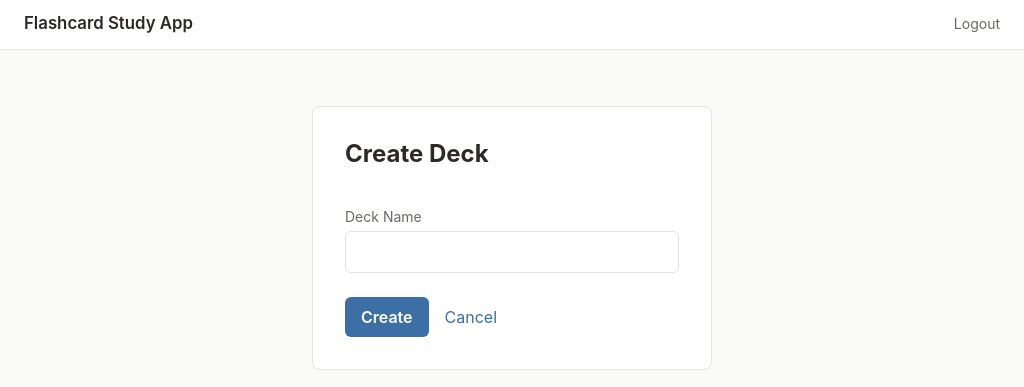
Test: CreateDeckPage › opens the new deck's page, replacing the create form in history
In the field labelled "Deck Name": x=512, y=252 [345,231,679,273], type "Chemistry"
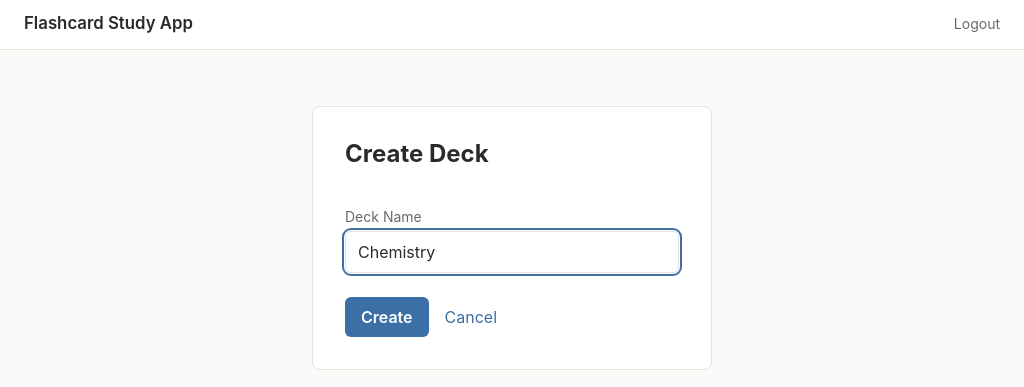
Click the button "Create": x=387, y=317 [345,297,428,337]
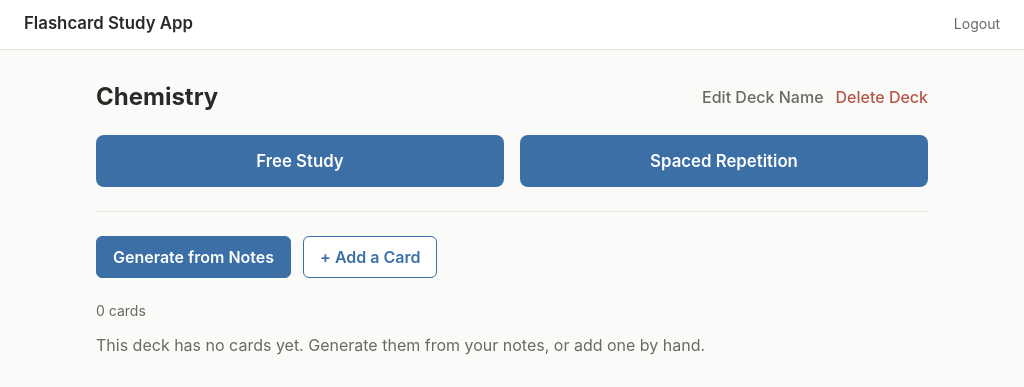
Result: the heading "Chemistry" is shown at [96,82,218,111]
